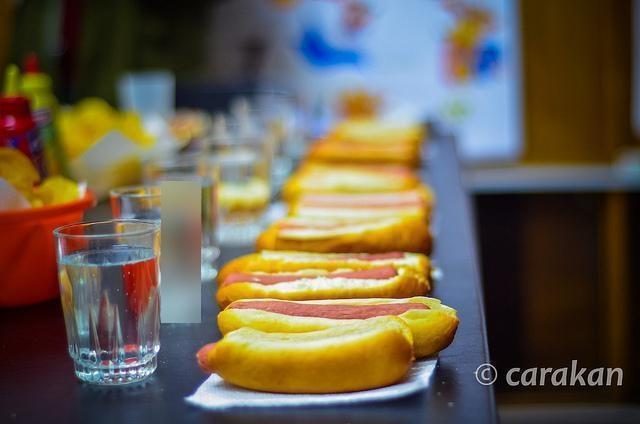glass-normal: (55, 219, 162, 386)
